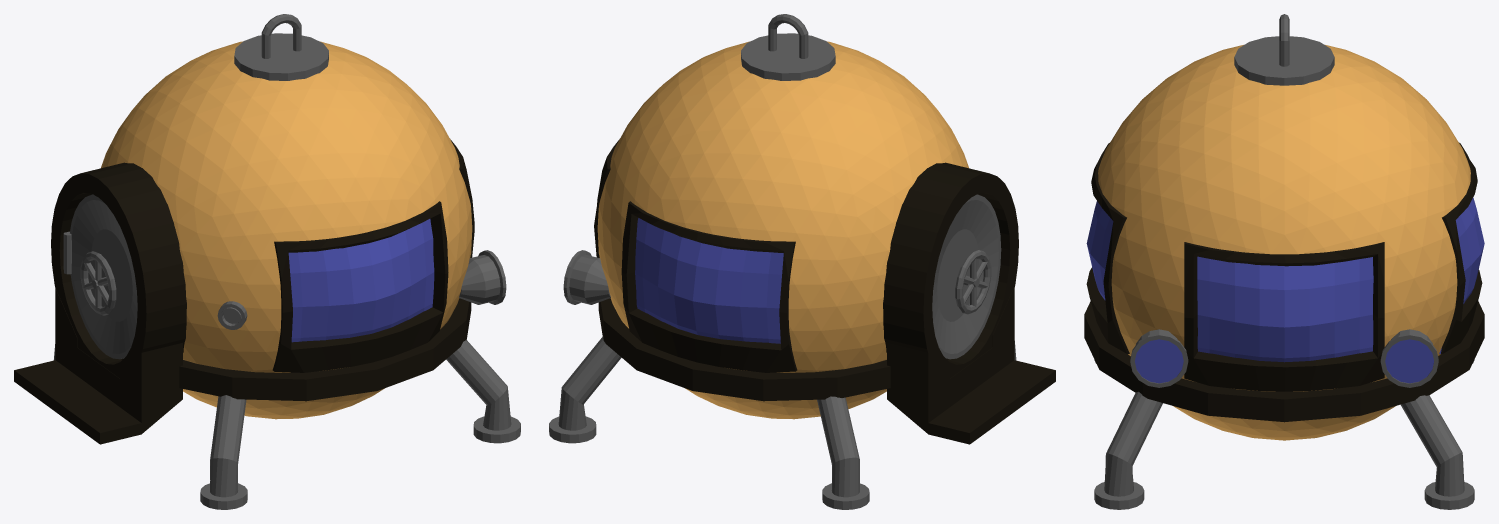
File: Tauchboot.fbx
3 views of the same model, side by side, from view 1: azimuth 30°, elevation 25°; view 2: azimuth 150°, elevation 25°; view 3: azimuth 270°, elevation 25° (orthographic). The views are drawn at different scales.
Parts seen in each view (by area): view 1: Icosphere, Tuerrahmen, Scheibe3, Tritt, Fensterrahmen1, Corpusrahmen, Tuer, Fuss3, Fuss4, Cylinder, Licht-Rechts, Rad (+2 smaller); view 2: Icosphere, Tuerrahmen, Scheibe1, Tritt, Fesnterrahmen3, Corpusrahmen, Tuer, Fuss2, Fuss1, Cylinder, Licht-Lnks, Rad (+1 smaller); view 3: Icosphere, Scheibe2, Corpusrahmen, Fesnterrahmen2, Fuss1, Fuss4, Cylinder, Fensterrahmen1, Fesnterrahmen3, Scheibe1, Licht1, Licht2 (+4 smaller).
Boxes of the visible parts, left/top/right/bottom form: Icosphere: left=101, top=41, right=472, bottom=419; Tuerrahmen: left=51, top=162, right=186, bottom=378; Scheibe3: left=288, top=219, right=434, bottom=342; Tritt: left=14, top=288, right=182, bottom=444; Fensterrahmen1: left=272, top=201, right=448, bottom=372; Corpusrahmen: left=179, top=299, right=471, bottom=401; Tuer: left=70, top=194, right=137, bottom=359; Fuss3: left=200, top=395, right=247, bottom=509; Fuss4: left=446, top=340, right=520, bottom=443; Cylinder: left=234, top=33, right=328, bottom=80; Licht-Rechts: left=459, top=250, right=506, bottom=304; Rad: left=80, top=251, right=116, bottom=315; Icosphere: left=597, top=41, right=968, bottom=419; Tuerrahmen: left=883, top=162, right=1018, bottom=378; Scheibe1: left=635, top=218, right=783, bottom=343; Tritt: left=887, top=287, right=1055, bottom=444; Fesnterrahmen3: left=621, top=201, right=797, bottom=372; Corpusrahmen: left=598, top=298, right=890, bottom=401; Tuer: left=933, top=194, right=1001, bottom=359; Fuss2: left=817, top=396, right=869, bottom=509; Fuss1: left=549, top=336, right=621, bottom=443; Cylinder: left=741, top=33, right=835, bottom=80; Licht-Lnks: left=563, top=250, right=610, bottom=304; Rad: left=955, top=250, right=991, bottom=314; Icosphere: left=1098, top=45, right=1470, bottom=440; Scheibe2: left=1197, top=256, right=1373, bottom=362; Corpusrahmen: left=1084, top=301, right=1484, bottom=422; Fesnterrahmen2: left=1184, top=242, right=1384, bottom=391; Fuss1: left=1401, top=395, right=1474, bottom=509; Fuss4: left=1094, top=391, right=1162, bottom=509; Cylinder: left=1234, top=36, right=1334, bottom=85; Fensterrahmen1: left=1086, top=143, right=1129, bottom=353; Fesnterrahmen3: left=1441, top=142, right=1482, bottom=353; Scheibe1: left=1439, top=197, right=1484, bottom=353; Licht1: left=1135, top=339, right=1183, bottom=383; Licht2: left=1385, top=339, right=1433, bottom=383.
Size of the model in its own units: 943 by 910 by 800.
